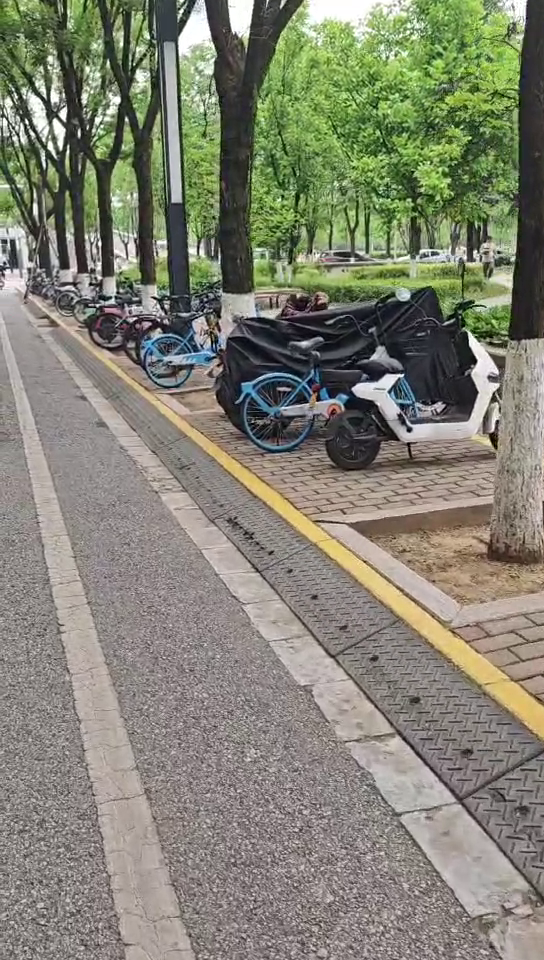others: (332, 311, 521, 461)
shared_bike_haluo: (238, 306, 417, 445), (139, 303, 233, 384)
